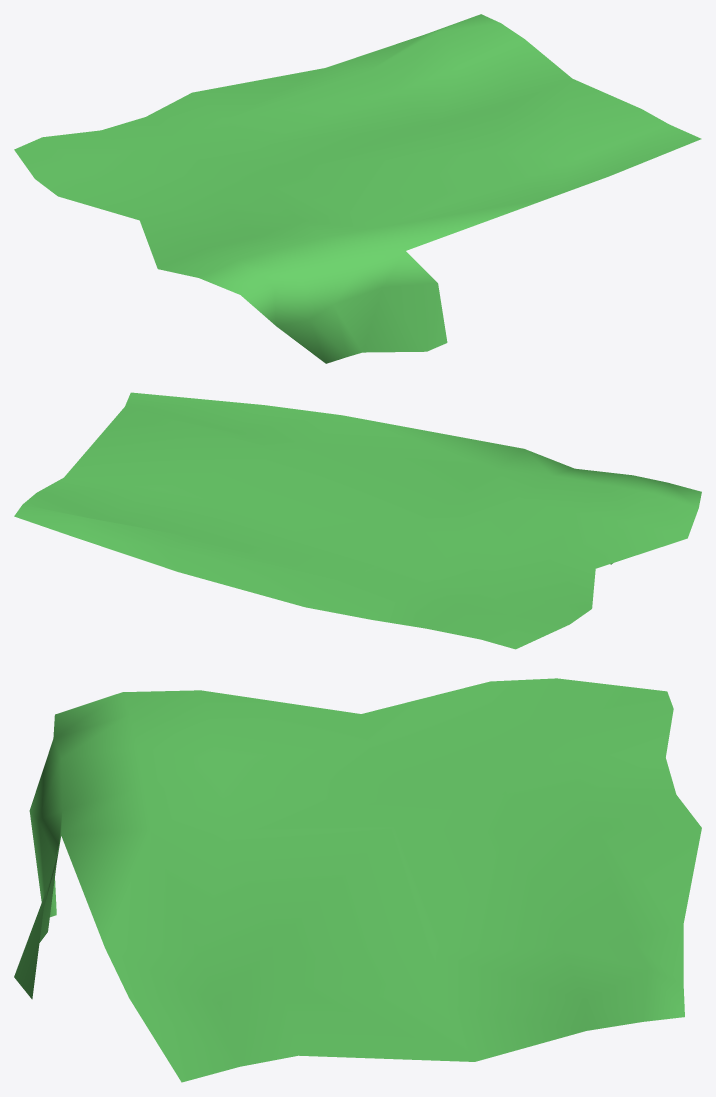
File: Camisa.glb
3 renders of one model, top to bottom at view 1: azimuth 30°, elevation 25°; view 2: azimuth 150°, elevation 25°; view 3: azimuth 270°, elevation 25°, orthographic. The views are drawn at different scales.
Parts seen in each view (by area): view 1: camisa.001; view 2: camisa.001; view 3: camisa.001.
Boxes of the visible parts, x1,y1,x2,y2 form: camisa.001: (14, 14, 701, 363); camisa.001: (14, 392, 701, 649); camisa.001: (14, 678, 701, 1082).
Bounding box in the file's own units: 1.46 × 0.2934 × 1.06.
Materials: 1 (1 with a texture image).
